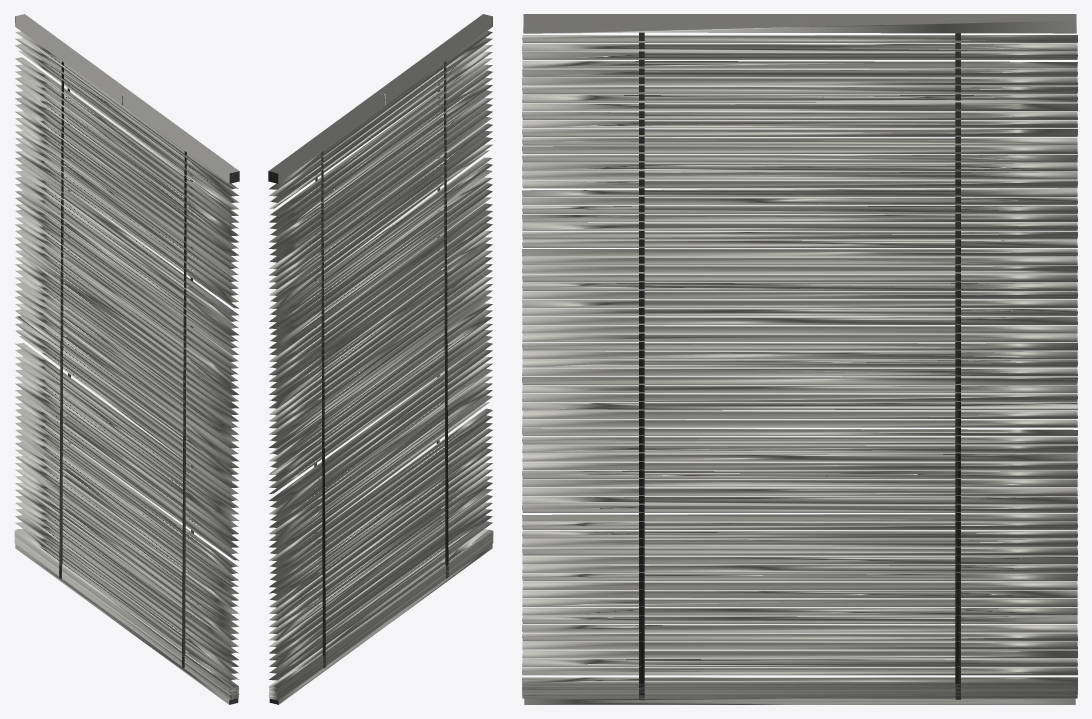
File: blinds_window_2m_open_a01.glb
The picture shows the model from 3 angles, left to right: view 1: azimuth 30°, elevation 25°; view 2: azimuth 150°, elevation 25°; view 3: azimuth 270°, elevation 25°; orthographic projection. The views are drawn at different scales.
Visible parts, largest first — view 1: blinds_window_2m_open_a01; view 2: blinds_window_2m_open_a01; view 3: blinds_window_2m_open_a01.
Part boxes in pixels (bbox=[...]): blinds_window_2m_open_a01: bbox=[14, 14, 239, 704]; blinds_window_2m_open_a01: bbox=[268, 14, 493, 704]; blinds_window_2m_open_a01: bbox=[522, 14, 1077, 704].
Size of the model in its own units: 0.0554 by 2.57 by 1.89.
4 materials, 3 textured.
